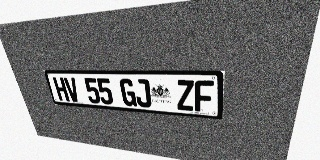5: (96, 78, 114, 105), (84, 78, 101, 104)
F: (194, 80, 214, 112)
G: (119, 79, 137, 107)
H: (52, 77, 70, 101)
J: (134, 79, 152, 108)
V: (63, 77, 81, 102)
Z: (176, 80, 194, 111)
